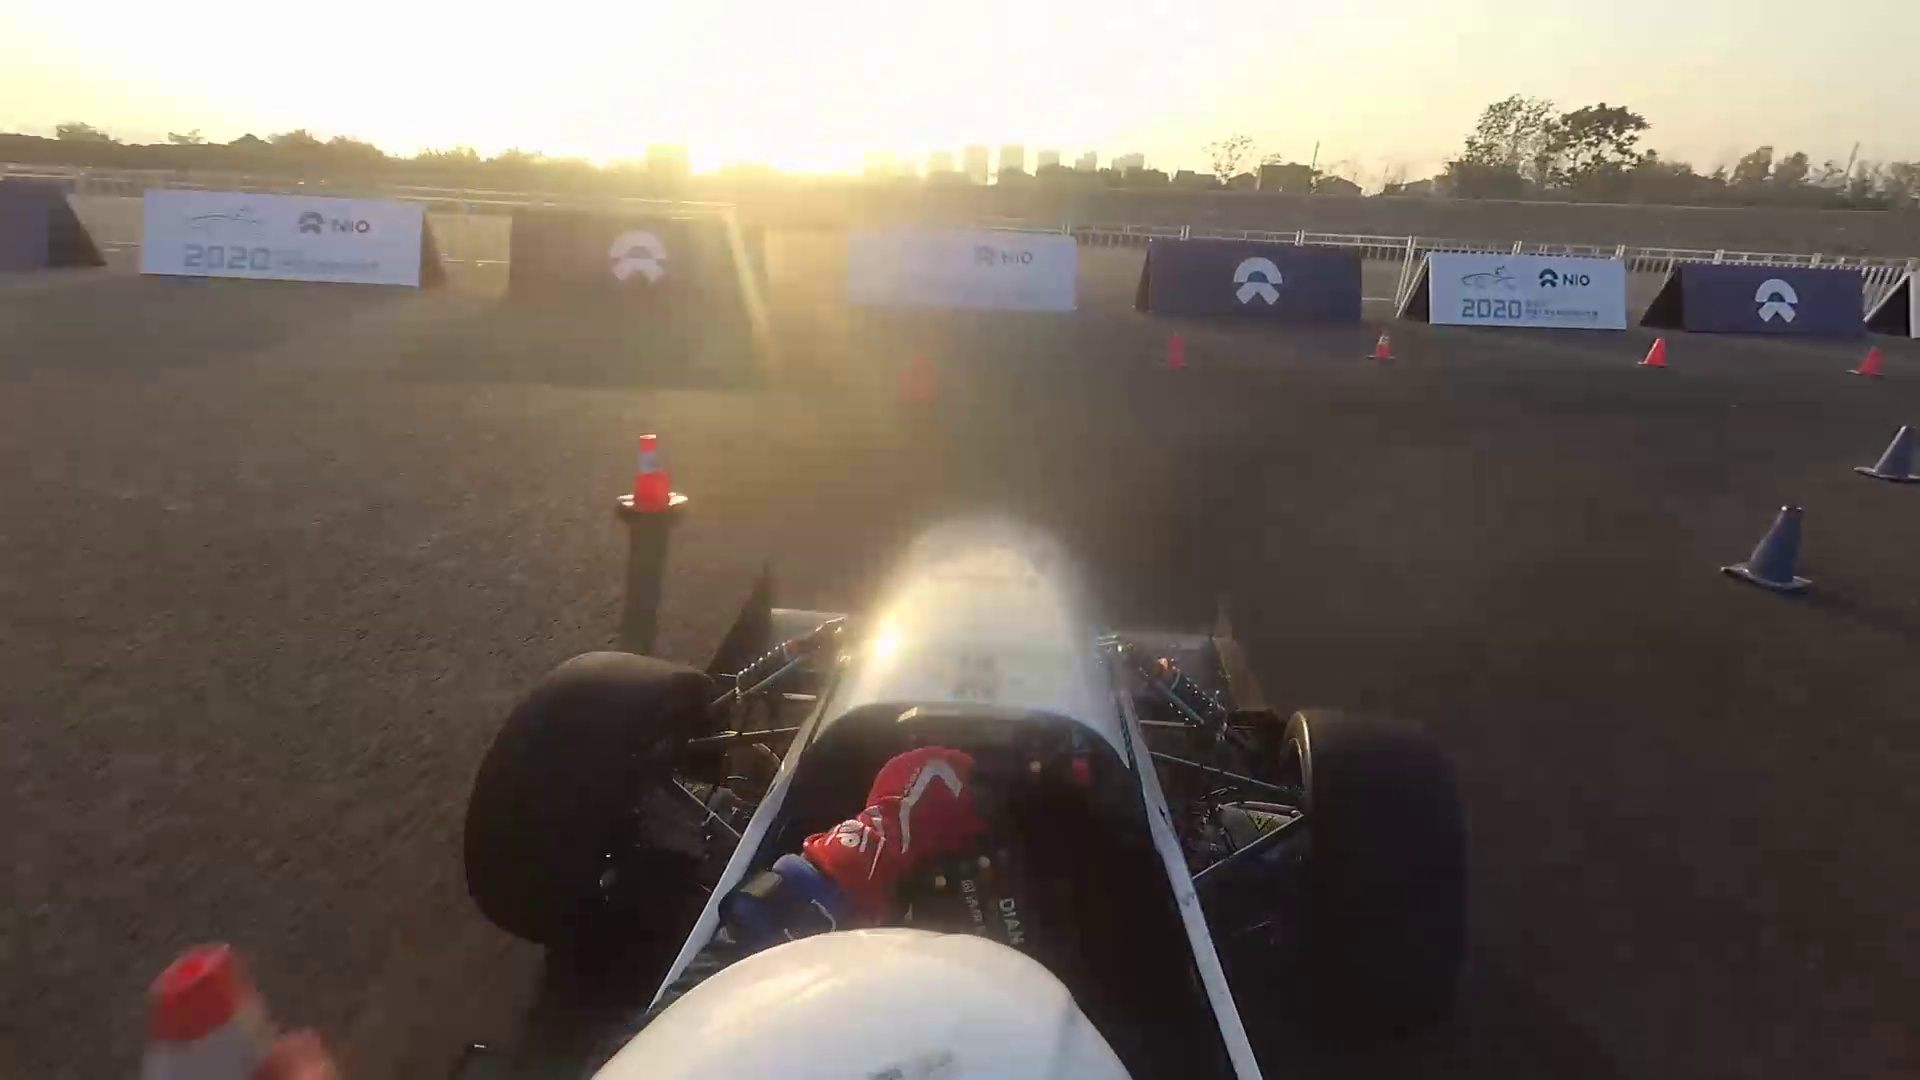blue_cone: (1727, 488, 1815, 616), (1873, 421, 1920, 488)
red_cone: (603, 421, 699, 527), (1357, 316, 1404, 367), (1164, 328, 1201, 392), (1638, 327, 1669, 388), (1862, 340, 1888, 397)
